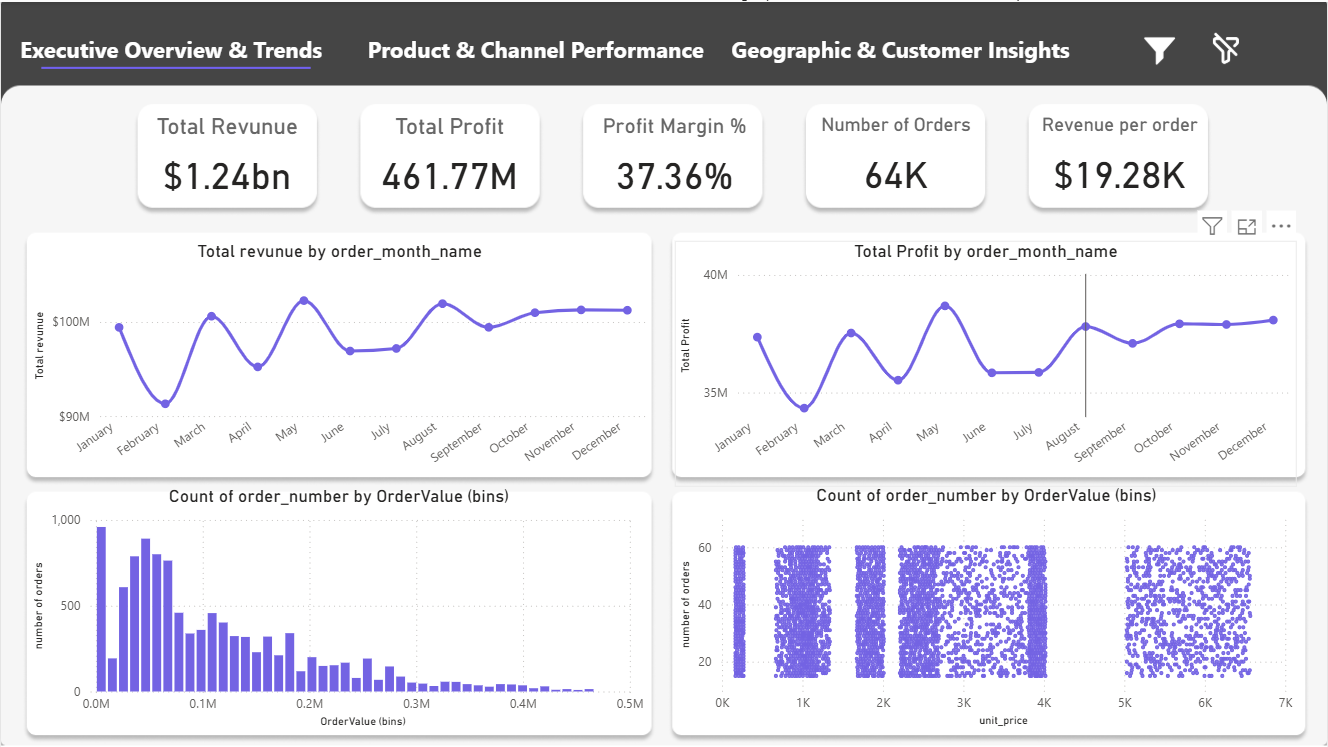

Layout of this report page (visuals, bound fields, positions):
{"tool":"powerbi","page":{"name":"Executive Overview & Trends","canvas":[1280,720],"ordinal":0},"visuals":[{"type":"card","title":"Total Revunue","fields":{"Values":["measure.Total revunue"]},"box":[132.9,107.1,171.4,91.4],"z":0},{"type":"card","title":"Total Profit","fields":{"Values":["measure.Total Profit"]},"box":[347.1,107.1,171.4,91.4],"z":1000},{"type":"card","title":"Profit Margin %","fields":{"Values":["measure.Profit Margin %"]},"box":[564.3,107.1,171.4,91.4],"z":2000},{"type":"card","title":"Number of Orders","fields":{"Values":["measure.Total Orders"]},"box":[778.6,107.1,171.4,91.4],"z":3000},{"type":"card","title":"Revenue per order","fields":{"Values":["measure.Revenue per order"]},"box":[994.3,107.1,171.4,91.4],"z":4000},{"type":"lineChart","fields":{"Y":["measure.Total revunue"],"Category":["Sales_data(EDA Exported).order_month_name"]},"box":[26.1,230.5,601,237.4],"z":5000},{"type":"lineChart","fields":{"Y":["measure.Total Profit"],"Category":["Sales_data(EDA Exported).order_month_name"]},"box":[650.4,230.5,601,237.4],"z":6000},{"type":"columnChart","title":"Count of order_number by OrderValue (bins)","fields":{"Category":["Order_Value_Distribution.OrderValue (bins)"],"Y":["CountNonNull(Order_Value_Distribution.order_number)"]},"box":[25.7,467.1,601.4,238.6],"z":7000},{"type":"scatterChart","title":"Count of order_number by OrderValue (bins)","fields":{"X":["Sales_data.unit_price"],"Y":["Sales_data.profit_margin_pct"]},"box":[650,465.7,601.4,238.6],"z":8000},{"type":"actionButton","box":[0,25.7,328.6,40],"z":9000},{"type":"actionButton","box":[345.7,25.7,340,40],"z":10000},{"type":"actionButton","box":[695.7,25.7,344.3,40],"z":11000},{"type":"image","box":[1097.9,20.5,41,53.1],"z":12000},{"type":"image","box":[1160.7,24.3,43.6,45],"z":13000}]}

Visuals, with their boxes in screenshot pixels (x1, y1, x2, y2), scaled from the page's 1280x720 canvas onto the 1328x747 screenshot:
"Total Revunue" card: crop(138, 111, 316, 206)
"Total Profit" card: crop(360, 111, 538, 206)
"Profit Margin %" card: crop(585, 111, 763, 206)
"Number of Orders" card: crop(808, 111, 986, 206)
"Revenue per order" card: crop(1032, 111, 1209, 206)
lineChart - measure.Total revunue x Sales_data(EDA Exported).order_month_name: crop(27, 239, 651, 485)
lineChart - measure.Total Profit x Sales_data(EDA Exported).order_month_name: crop(675, 239, 1298, 485)
"Count of order_number by OrderValue (bins)" columnChart: crop(27, 485, 651, 732)
"Count of order_number by OrderValue (bins)" scatterChart: crop(674, 483, 1298, 731)
actionButton: crop(0, 27, 341, 68)
actionButton: crop(359, 27, 711, 68)
actionButton: crop(722, 27, 1079, 68)
image: crop(1139, 21, 1182, 76)
image: crop(1204, 25, 1249, 72)
